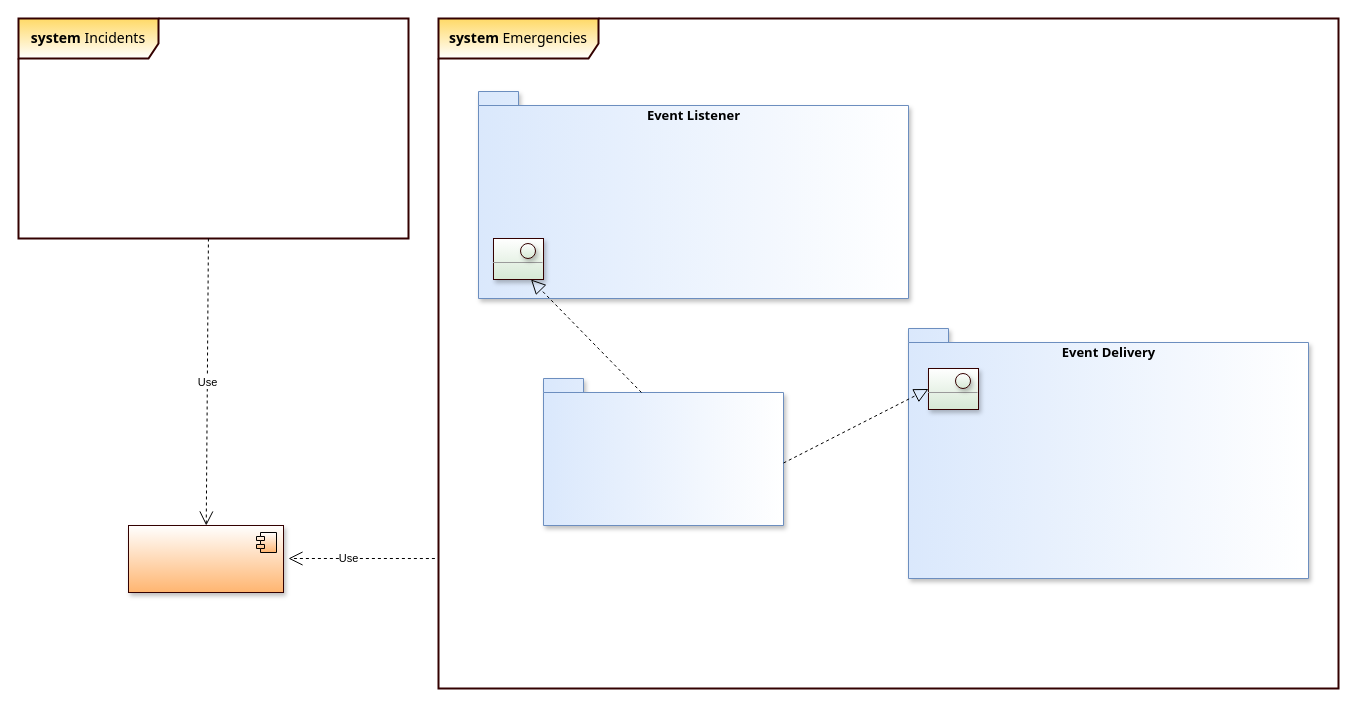
The diagram is 1356 pixels wide and 706 high, and some of its shapes have lost their labels. Here are the shapes that lost their labels. From the top down, the centre of each, then its label:
(x=664, y=453): Event Processing
(x=207, y=560): «component» Oracle Database 19c
